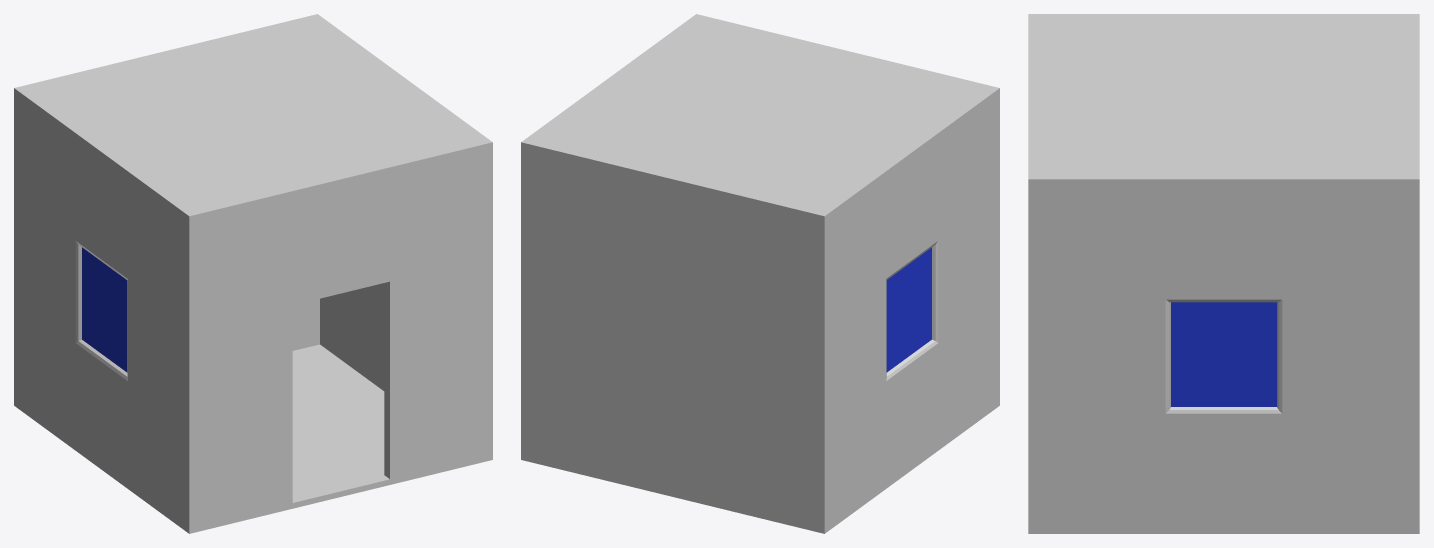
File: BasicStarterHouse 1.fbx
The picture shows the model from 3 angles, left to right: view 1: azimuth 30°, elevation 25°; view 2: azimuth 150°, elevation 25°; view 3: azimuth 270°, elevation 25°; orthographic projection. The views are drawn at different scales.
Visible parts, largest first — view 1: House; view 2: House; view 3: House.
Part boxes in pixels (box(x1,y1,x2,y2)): House: box(14, 14, 492, 533); House: box(521, 14, 999, 533); House: box(1028, 14, 1419, 533).
Size of the model in its own units: 200 by 200 by 200.
